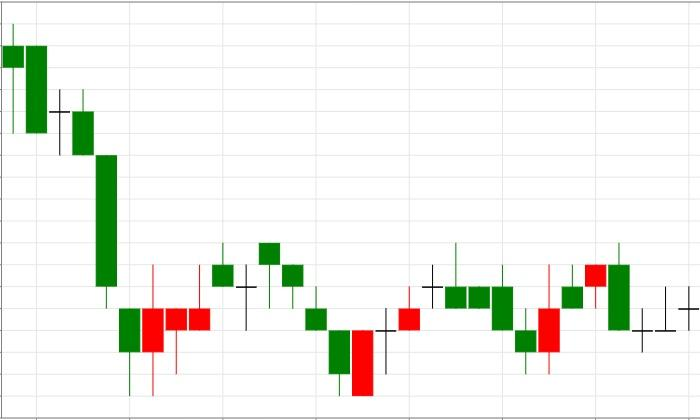bearish_engulfing_fall: (516, 241, 629, 374)
bullish_engulfing_rise: (444, 242, 561, 374)
